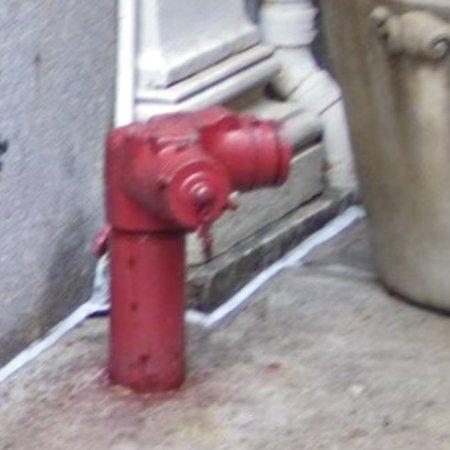a fire hydrant: (107, 107, 321, 392)
